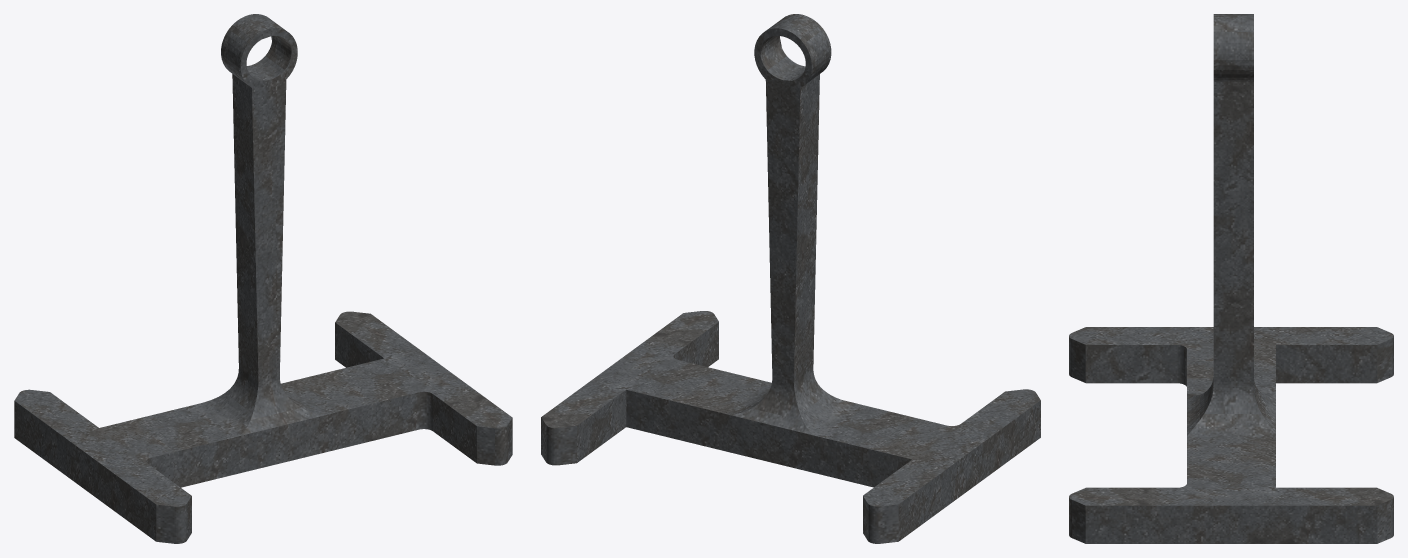
File: support2.fbx
The picture shows the model from 3 angles, left to right: view 1: azimuth 30°, elevation 25°; view 2: azimuth 150°, elevation 25°; view 3: azimuth 270°, elevation 25°; orthographic projection. The views are drawn at different scales.
Parts seen in each view (by area): view 1: Support_tabulate_1; view 2: Support_tabulate_1; view 3: Support_tabulate_1.
Boxes of the visible parts, bbox=[...] form: Support_tabulate_1: bbox=[14, 14, 512, 543]; Support_tabulate_1: bbox=[541, 14, 1040, 543]; Support_tabulate_1: bbox=[1069, 14, 1393, 543].
Bounding box in the file's own units: 3000 × 3414 × 2305.
